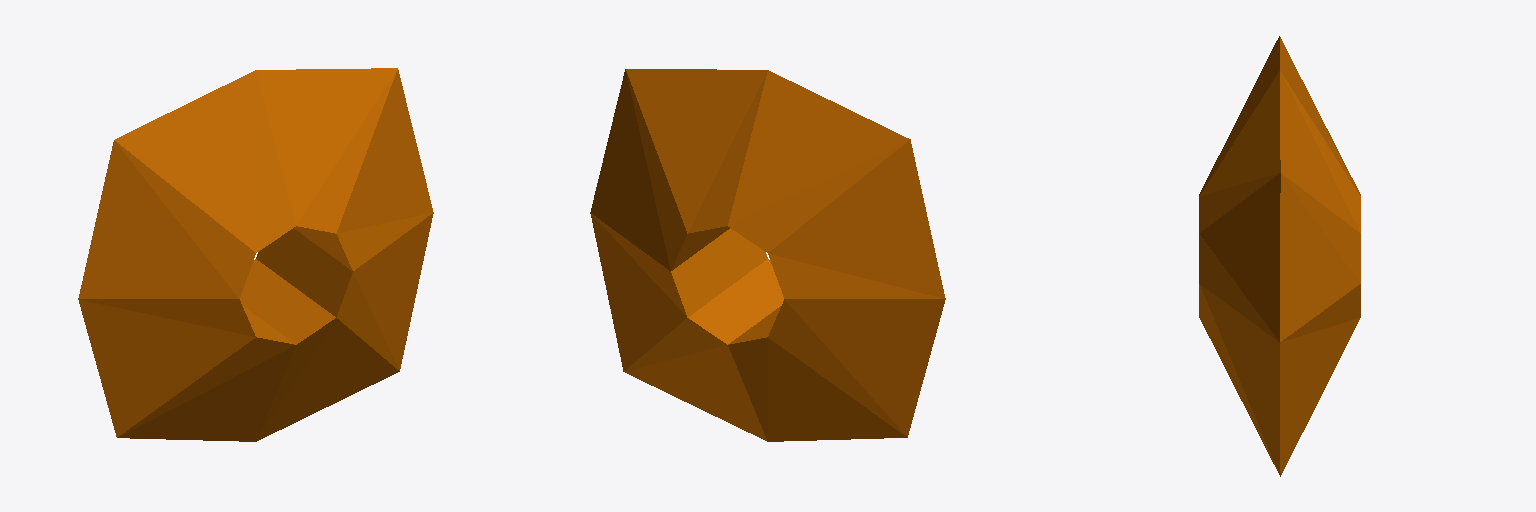
The model's file is AmberCoin.obj.
3 renders of one model, left to right at view 1: azimuth 30°, elevation 25°; view 2: azimuth 150°, elevation 25°; view 3: azimuth 270°, elevation 25°, orthographic.
Visible parts, largest first — view 1: Torus; view 2: Torus; view 3: Torus.
Boxes of the visible parts, box(x1,y1,x2,y2) form: Torus: box(78, 68, 433, 441); Torus: box(590, 69, 945, 441); Torus: box(1199, 36, 1360, 476).
Size of the model in its own units: 2.38 by 2.38 by 0.9353.